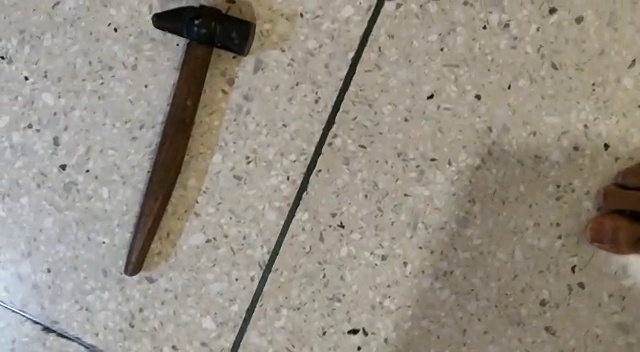hammer: (122, 3, 257, 276)
